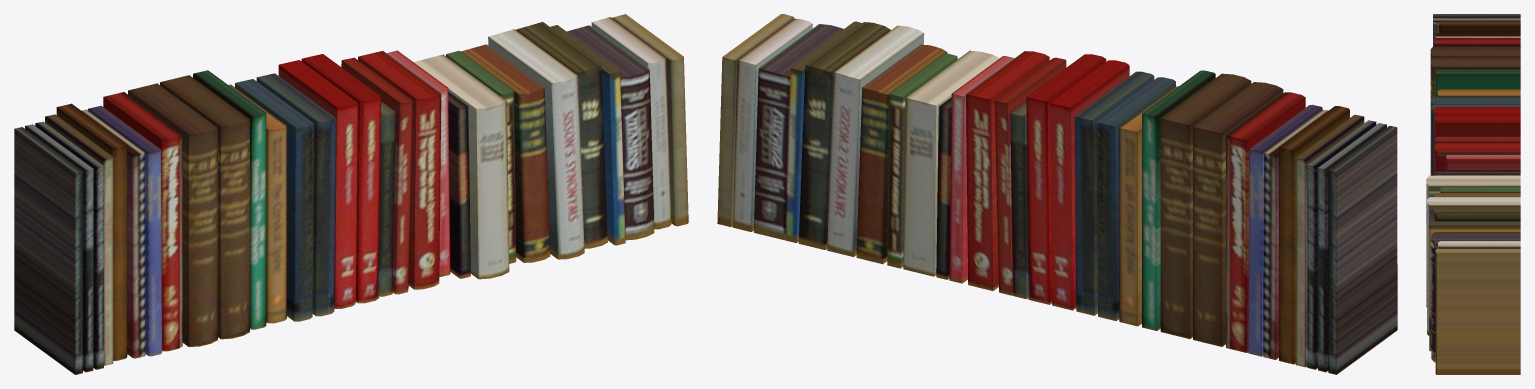
The model's file is Books 2.FBX.
The picture shows the model from 3 angles, left to right: view 1: azimuth 30°, elevation 25°; view 2: azimuth 150°, elevation 25°; view 3: azimuth 270°, elevation 25°; orthographic projection. The views are drawn at different scales.
Visible parts, largest first — view 1: Books1; view 2: Books1; view 3: Books1.
Boxes of the visible parts, box(x1,y1,x2,y2) form: Books1: box(14, 14, 688, 374); Books1: box(717, 14, 1397, 374); Books1: box(1426, 14, 1520, 374).
Bounding box in the file's own units: 98.73 × 18.28 × 32.63.
